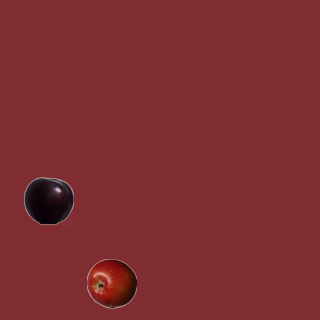Apple Braeburn: (86, 258, 136, 308)
Cherry Wax Black: (23, 175, 73, 225)
